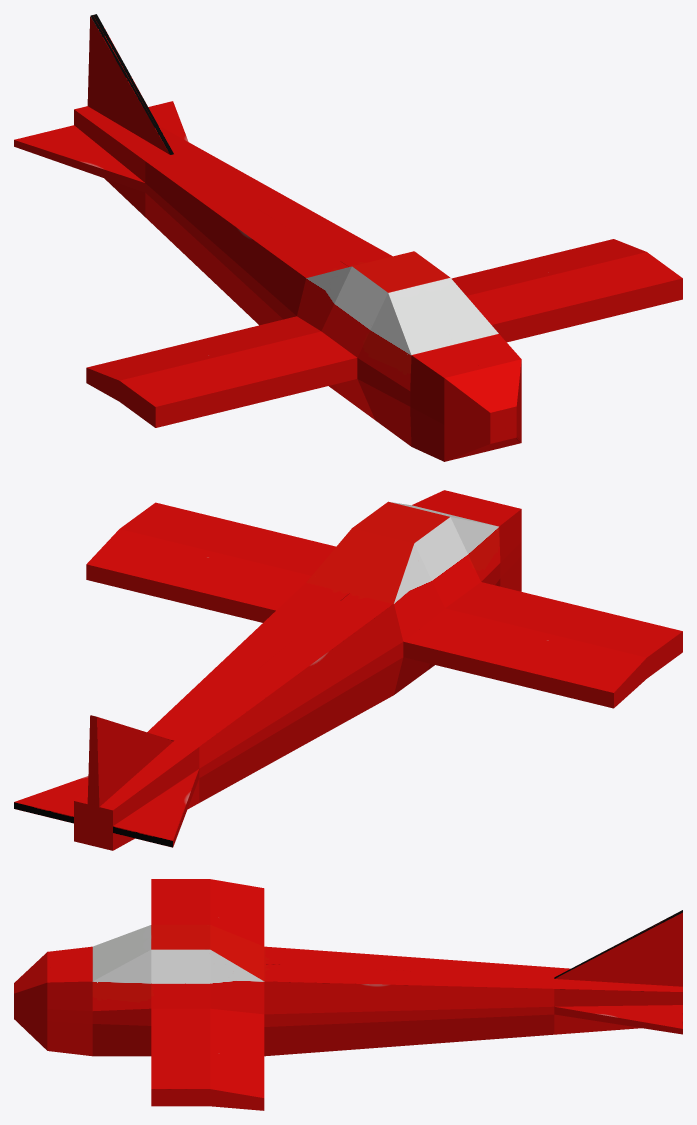
The model's file is lowPolyAirplane.obj.
The picture shows the model from 3 angles, top to bottom: view 1: azimuth 30°, elevation 25°; view 2: azimuth 150°, elevation 25°; view 3: azimuth 270°, elevation 25°; orthographic projection. The views are drawn at different scales.
Visible parts, largest first — view 1: Cube; view 2: Cube; view 3: Cube.
Part boxes in pixels (left/top/right/bottom): Cube: left=14, top=14, right=682, bottom=461; Cube: left=14, top=490, right=682, bottom=850; Cube: left=14, top=879, right=682, bottom=1110.
Bounding box in the file's own units: 12.04 × 3.41 × 16.21.
1 material, 1 textured.
